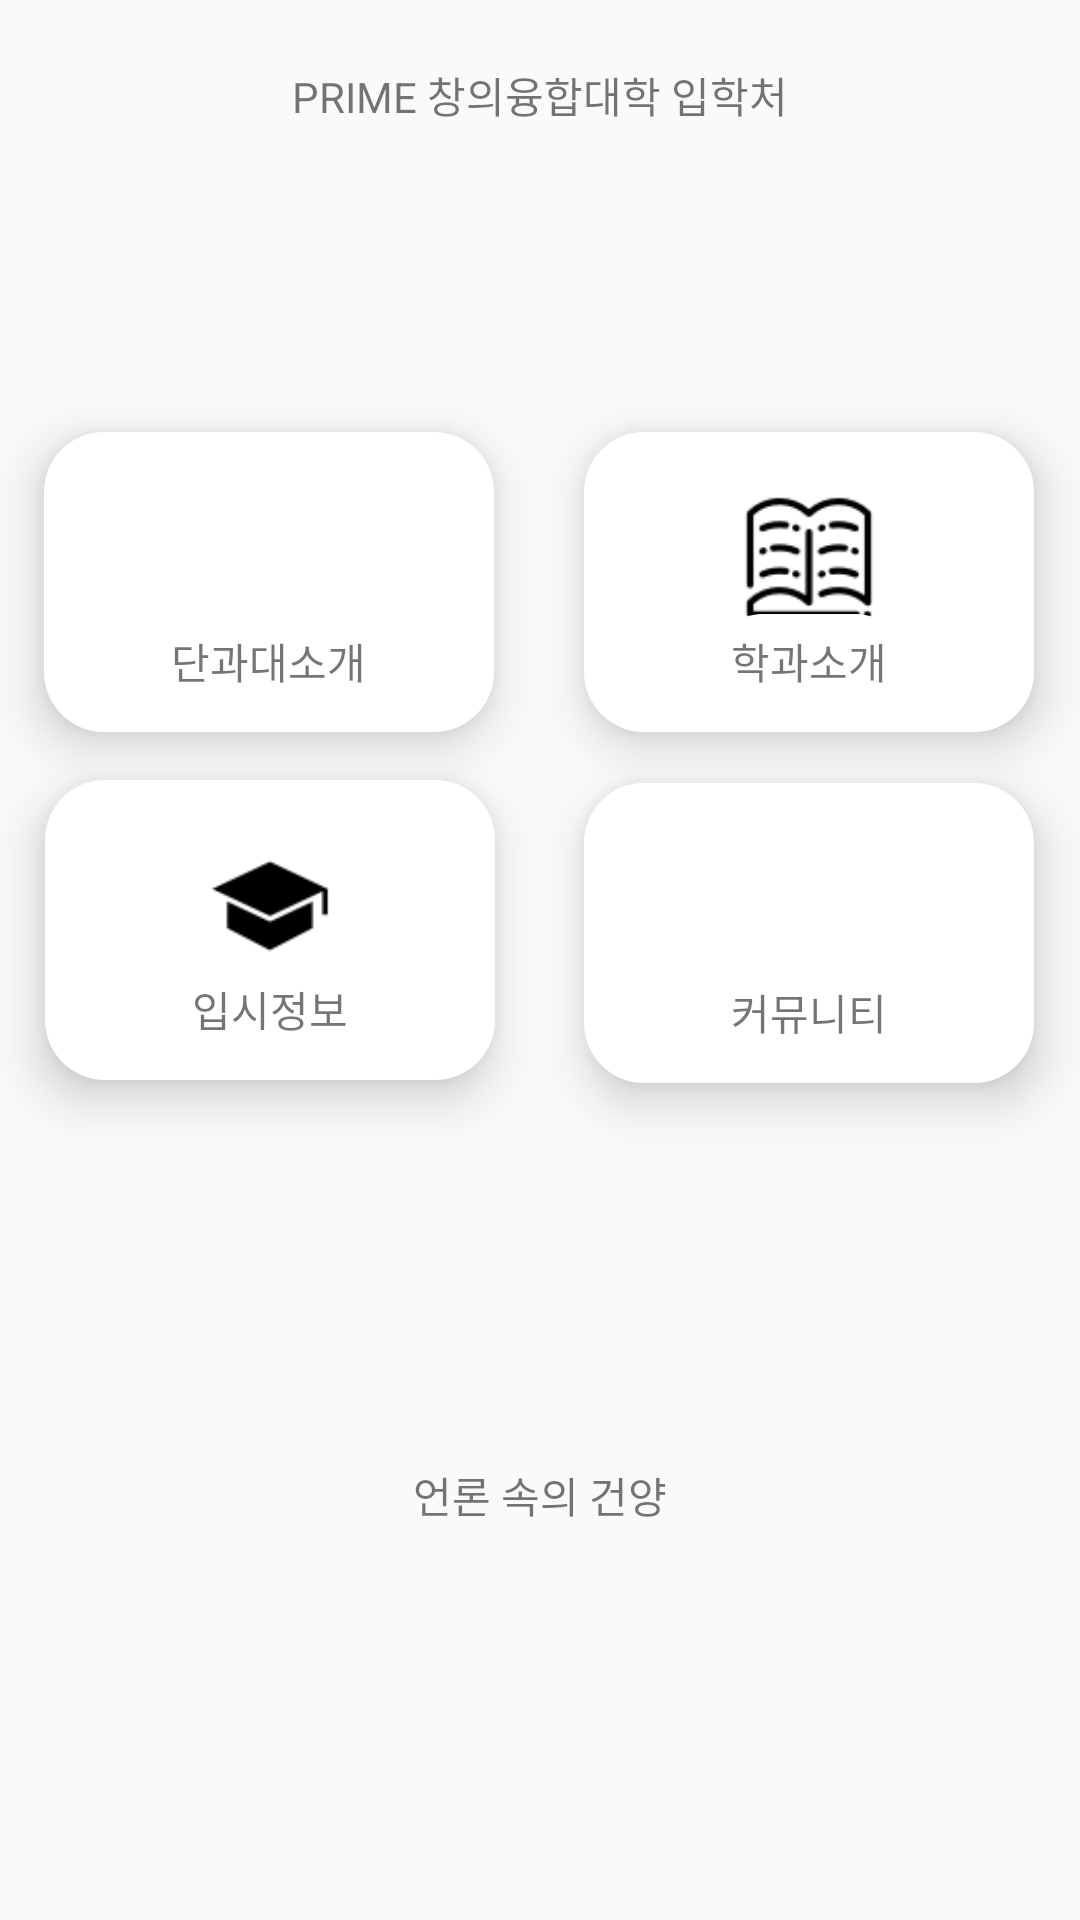

Icon bounding boxes for this 1080x1920 phone screenshot, format (left=x1, top=y1, right=x2, bottom=y2):
iconfinder copybook: (left=733, top=497, right=872, bottom=672)
iconfinder education: (left=195, top=861, right=329, bottom=1020)
